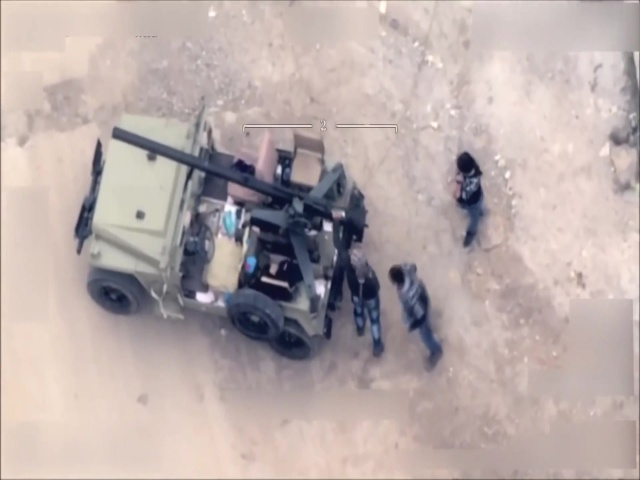person: (386, 254, 449, 363), (445, 145, 491, 254), (343, 247, 384, 362)
vehicle: (71, 112, 368, 363)
